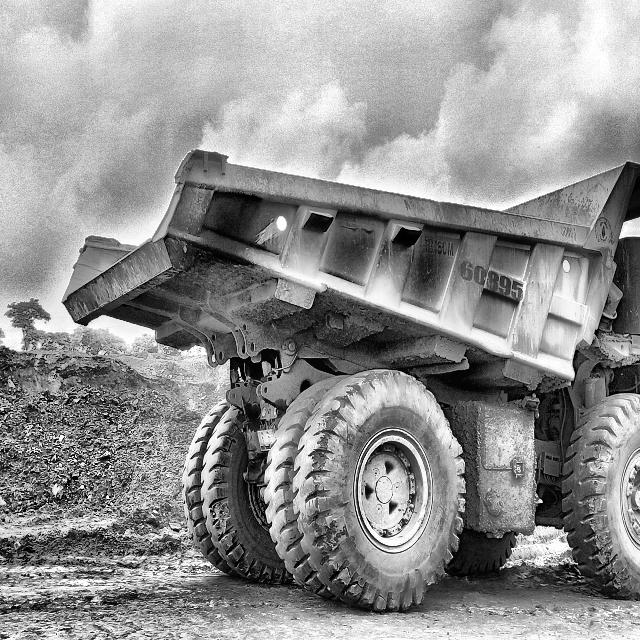dump_truck: (64, 151, 640, 615)
